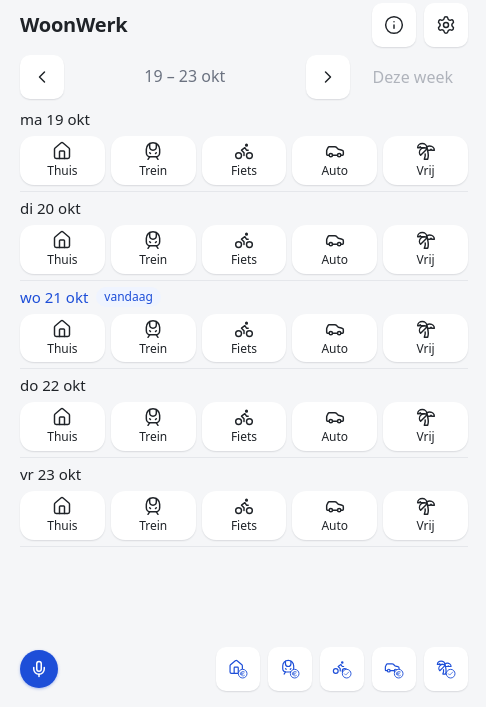
Test case: AC47: inspreken met de microfoonknop › toont een melding als het niet lukt en verandert niets
Click the button named "Inspreken": (39, 669) 20,650 -> 58,688
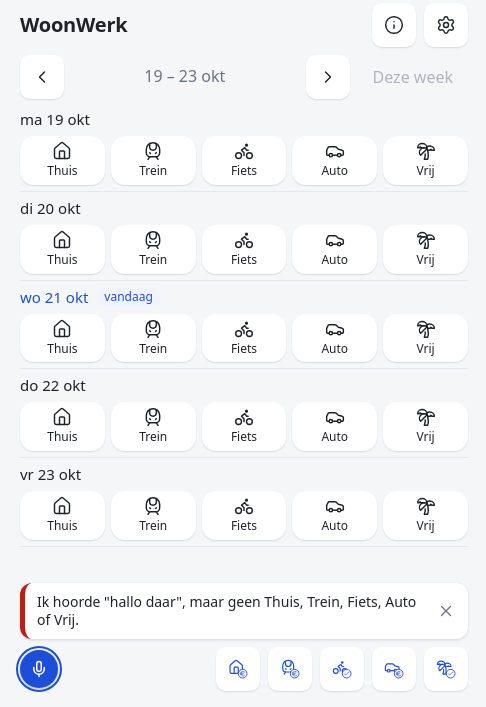
expect the message shows "Ik hoorde \"hallo daar\"": met, box 37,592 -> 416,629
Click the button named "Inspreken": (39, 669) 20,650 -> 58,688
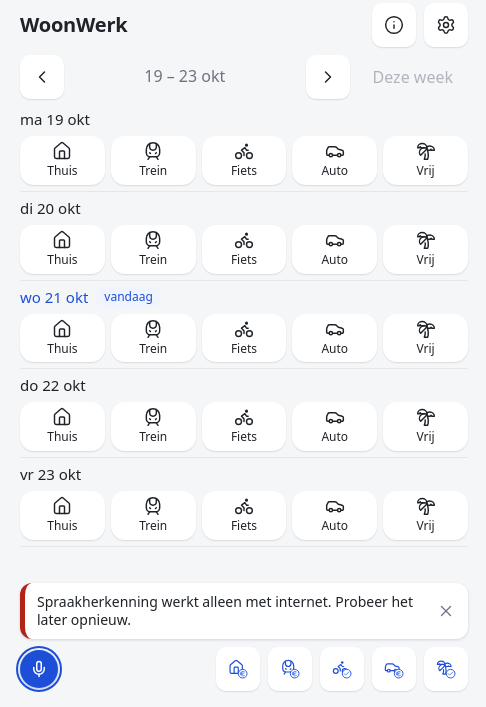
expect the message shows "Spraakherkenning werkt alleen met internet.": met, box 37,592 -> 413,629
